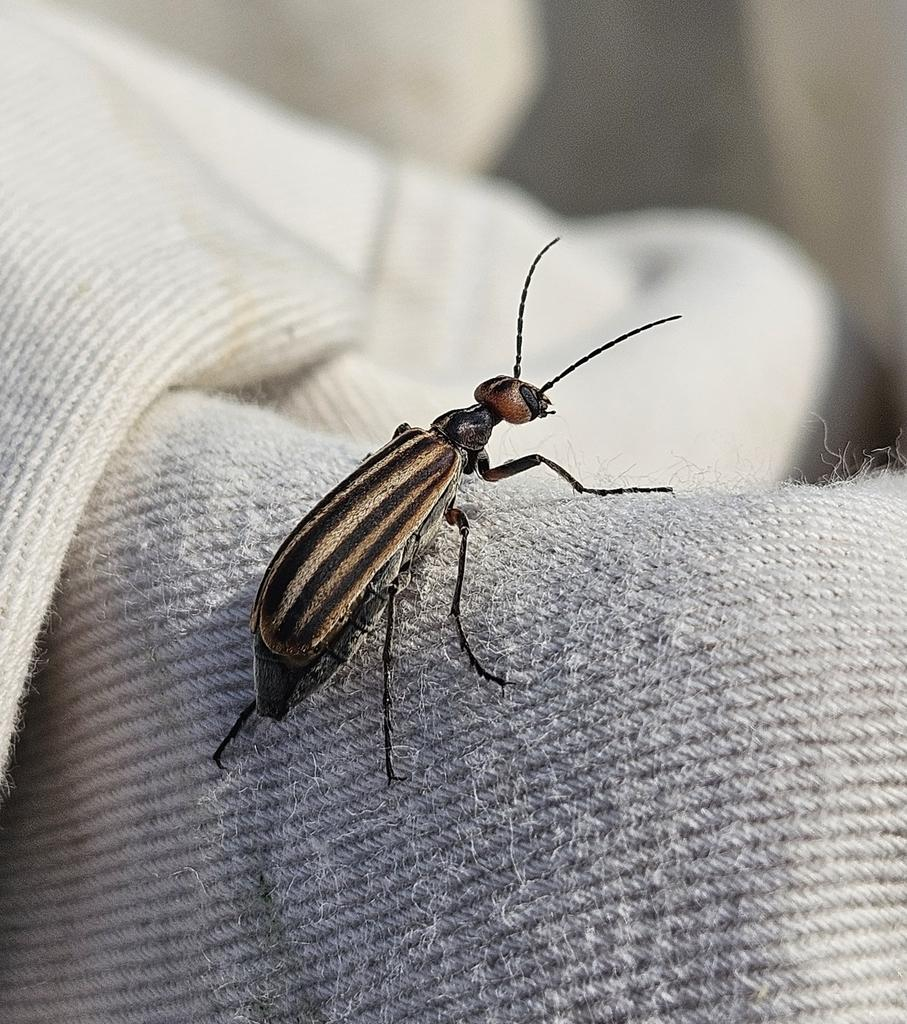blister_beetle: (110, 191, 779, 814)
